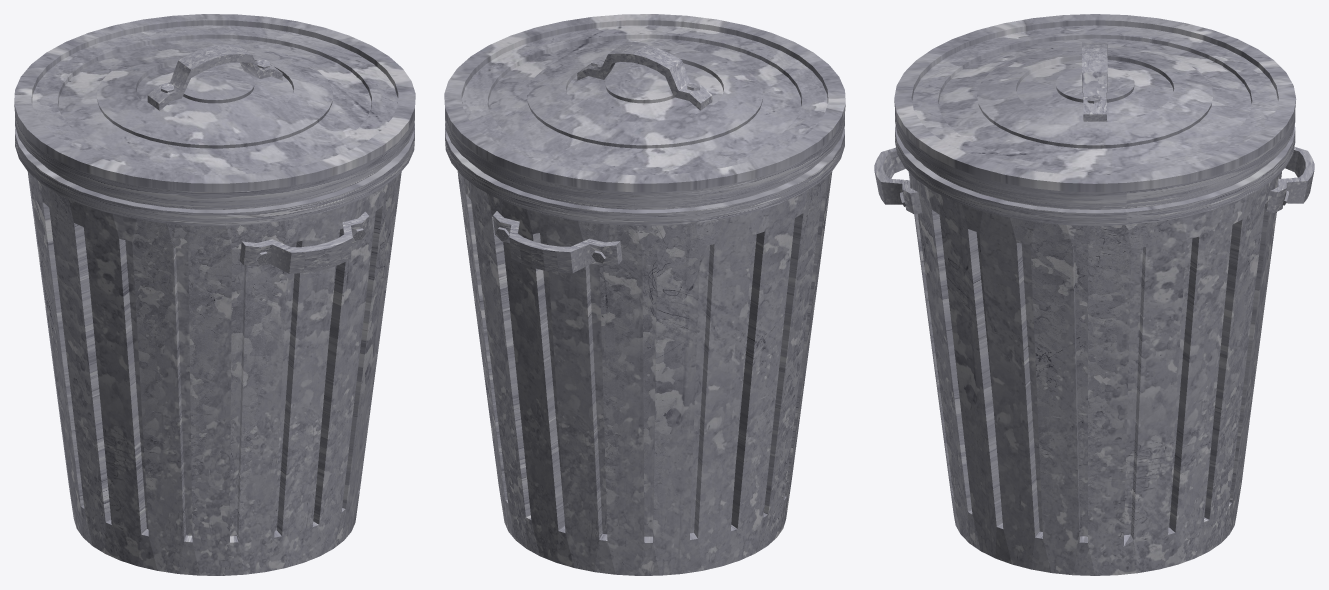
The model's file is MayaAssets.fbx.
The picture shows the model from 3 angles, left to right: view 1: azimuth 30°, elevation 25°; view 2: azimuth 150°, elevation 25°; view 3: azimuth 270°, elevation 25°; orthographic projection.
Parts seen in each view (by area): view 1: pCylinder1, pCylinder2, pasted__pCube1, pasted__pasted__pasted__pCylinder3; view 2: pCylinder1, pCylinder2, pCube1, pasted__pasted__pasted__pCylinder3; view 3: pCylinder1, pCylinder2, pasted__pasted__pasted__pCylinder3, pasted__pCube1, pCube1.
Part boxes in pixels (x1,y1,x2,y2): pCylinder1: (28, 172, 401, 575); pCylinder2: (14, 14, 415, 225); pasted__pCube1: (239, 211, 369, 273); pasted__pasted__pasted__pCylinder3: (147, 44, 282, 110); pCylinder1: (457, 171, 832, 575); pCylinder2: (444, 14, 845, 225); pCube1: (493, 211, 622, 273); pasted__pasted__pasted__pCylinder3: (577, 44, 712, 110); pCylinder1: (908, 172, 1281, 575); pCylinder2: (894, 14, 1296, 225); pasted__pasted__pasted__pCylinder3: (1082, 42, 1107, 121); pasted__pCube1: (874, 147, 922, 214); pCube1: (1266, 147, 1314, 212).
Bounding box in the file's own units: 9.14 × 11.74 × 10.
Materials: 1 (1 with a texture image).
